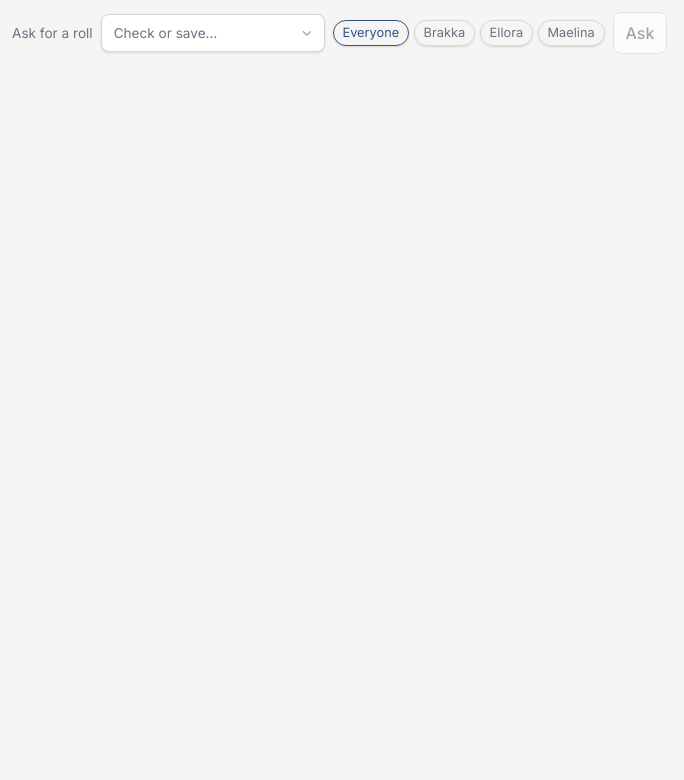
Test: the roll call's check picker › filters the closed list down to what was typed
The image size is (684, 780).
Click the button with aria-label "Which check or save to ask for" at [213, 33], box left=101, top=14, right=325, bottom=52
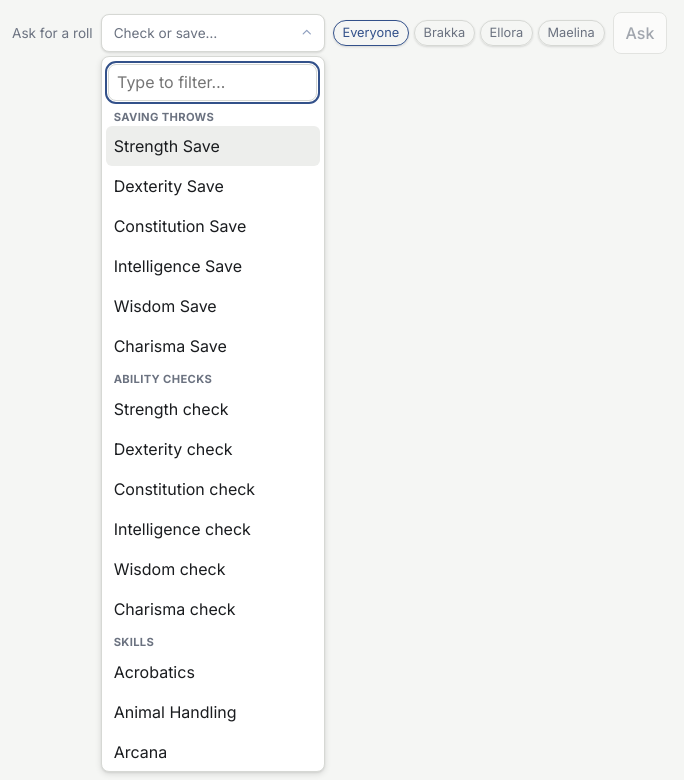
Type keys "perc"
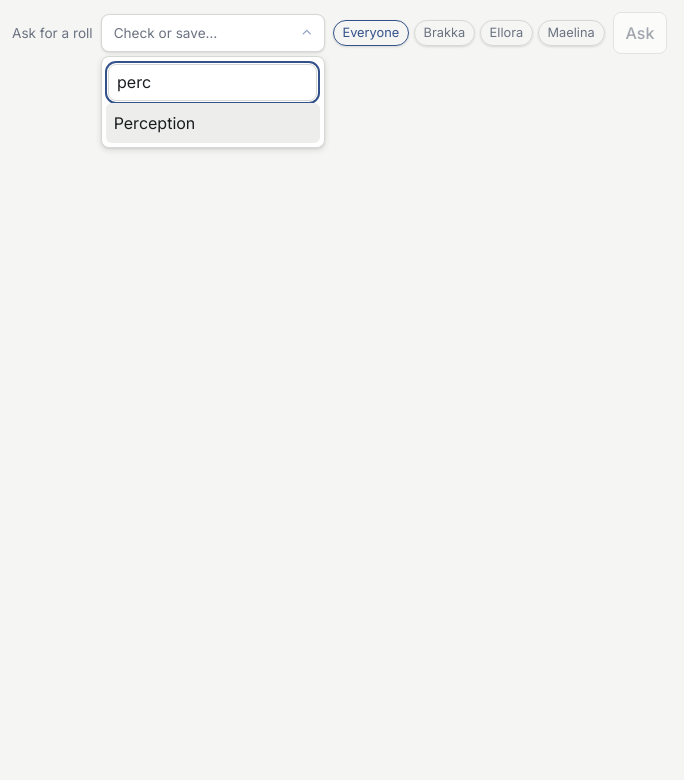
Result: the options read "Perception", in this order at left=106, top=103, right=320, bottom=143
